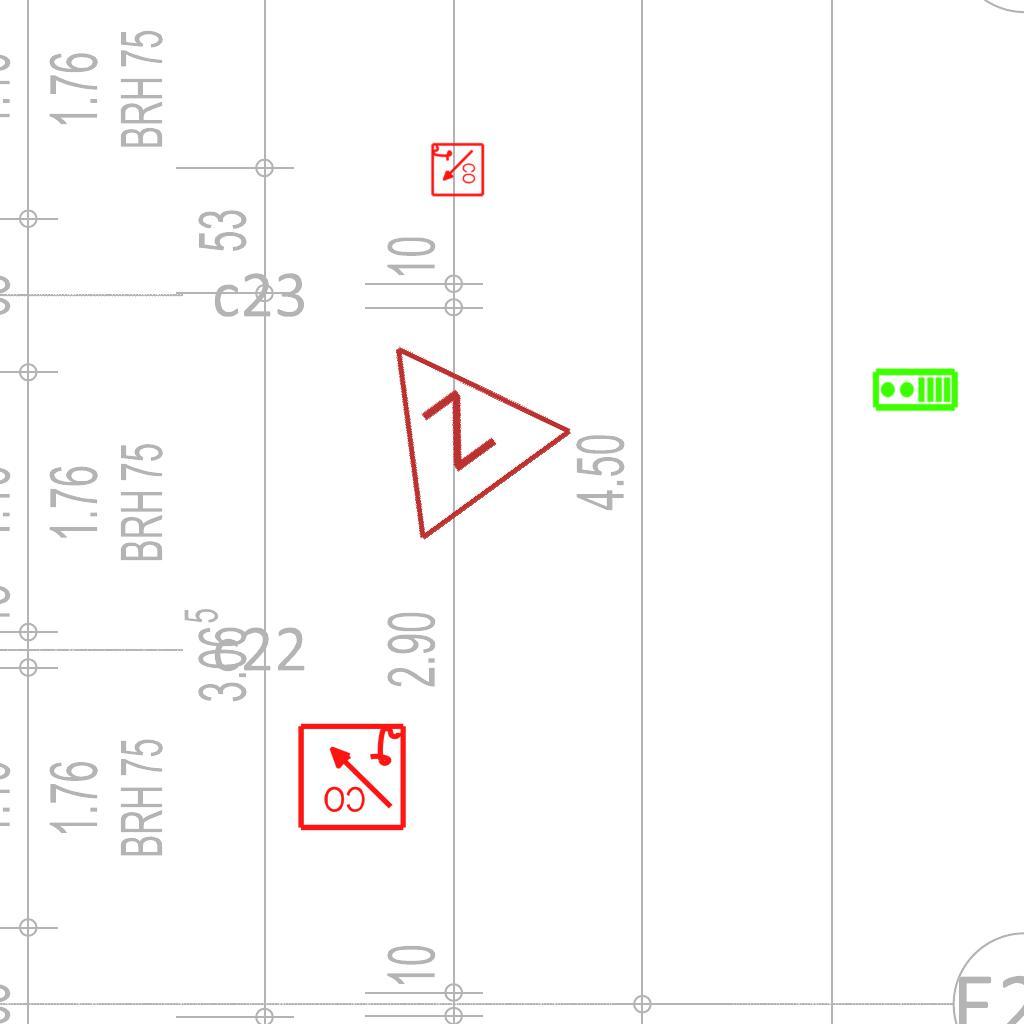Gegensprechanlage_mit_Video: (871, 367, 959, 414)
ROA_Rauchmelder_optisch_mit_Signalgeber_(Sockelsirene): (295, 719, 408, 832), (429, 142, 485, 198)
Zimmersignalleuchte: (307, 280, 585, 558)
